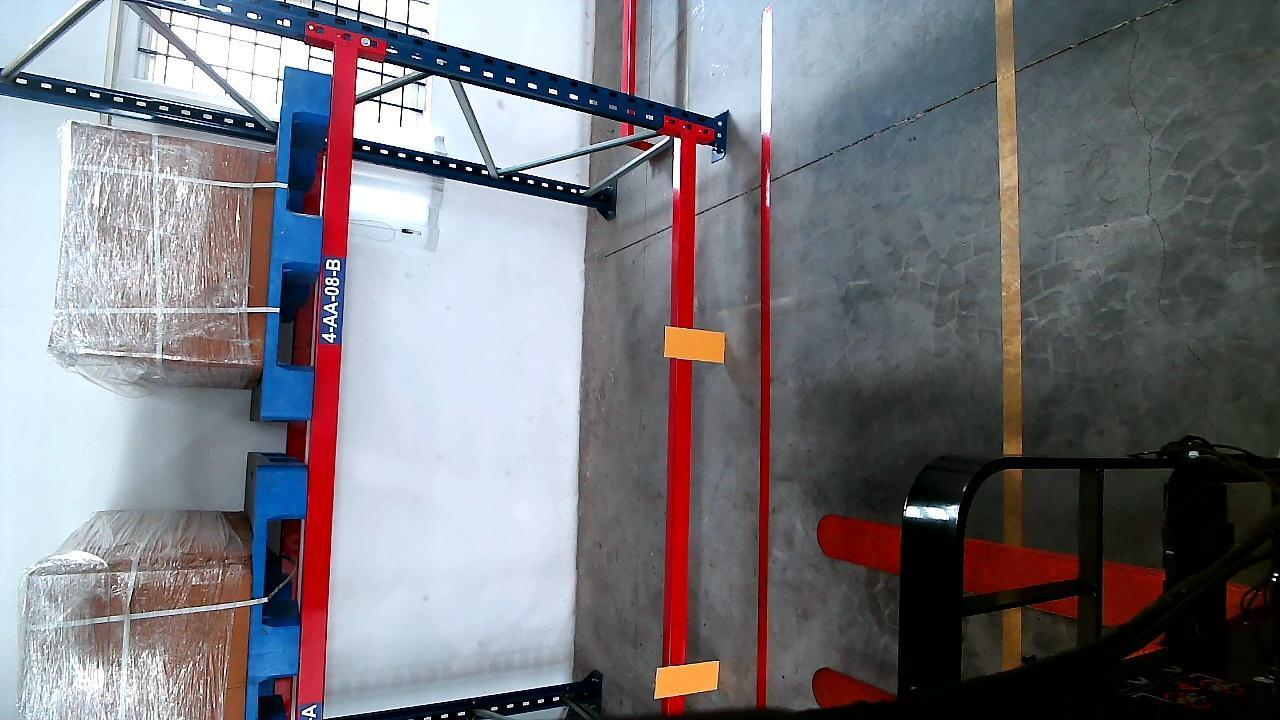h_rack: (298, 43, 358, 707), (665, 137, 694, 713)
orange_strip: (656, 659, 720, 698), (666, 327, 728, 360)
red_line: (757, 7, 774, 703)
small_pallet: (266, 65, 328, 423), (248, 471, 306, 720)
yellow_line: (998, 4, 1026, 675)
